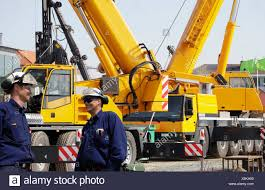helmet: (11, 70, 37, 85), (81, 87, 104, 95)
